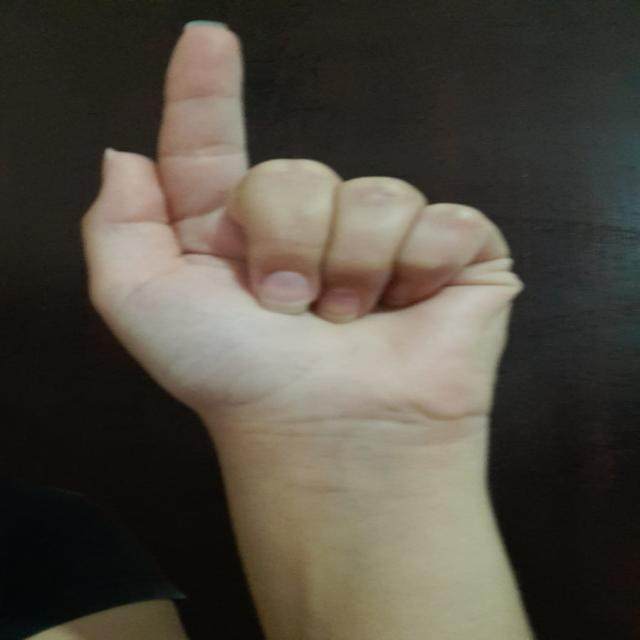G: (64, 16, 541, 420)
